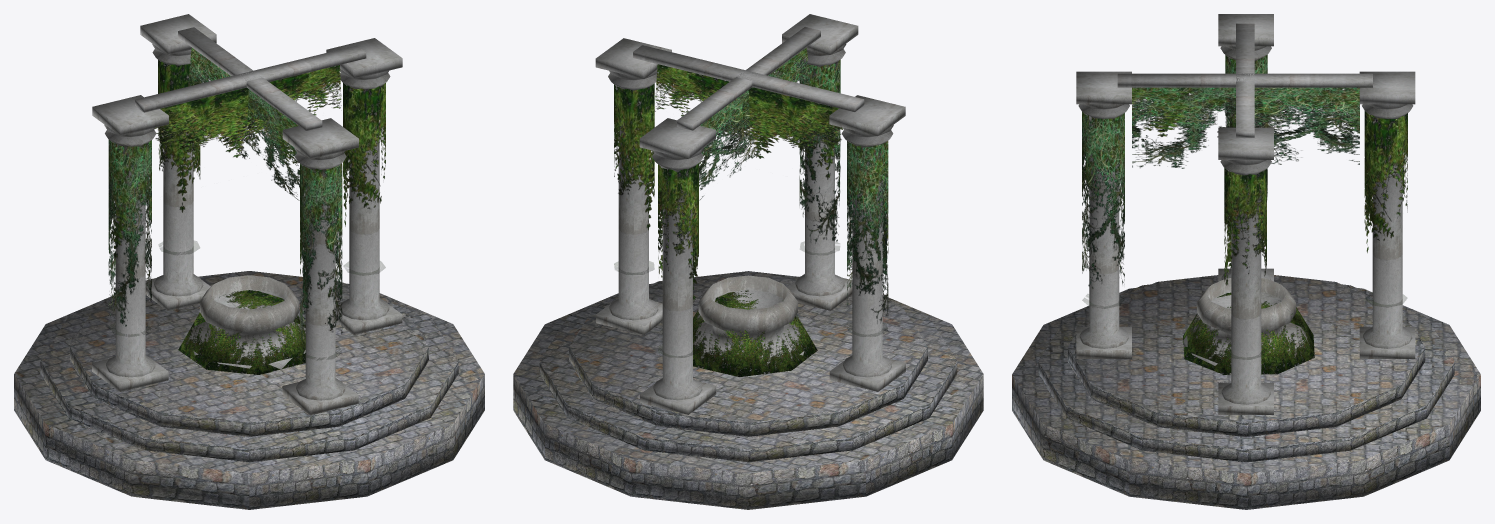
The model's file is Ruin_Temple2.glb.
3 renders of one model, left to right at view 1: azimuth 30°, elevation 25°; view 2: azimuth 150°, elevation 25°; view 3: azimuth 270°, elevation 25°, orthographic.
Parts seen in each view (by area): view 1: templeRuinTwo300; view 2: templeRuinTwo300; view 3: templeRuinTwo300.
Part boxes in pixels (<box>): templeRuinTwo300: <box>14,14,484,509</box>; templeRuinTwo300: <box>513,14,983,509</box>; templeRuinTwo300: <box>1012,14,1480,509</box>.
Size of the model in its own units: 11 by 8.63 by 11.
Materials: 4 (4 with a texture image).
